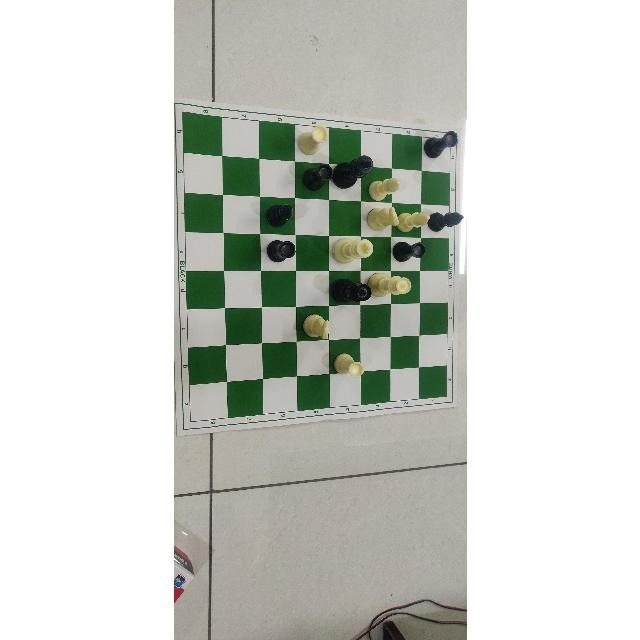black-bishop: (428, 207, 464, 232), (266, 197, 291, 228)
black-king: (335, 151, 373, 194)
black-queen: (330, 274, 369, 308)
black-rook: (262, 233, 296, 267), (299, 161, 333, 192), (423, 128, 454, 162), (392, 240, 423, 263)
white-bishop: (364, 173, 399, 201), (390, 208, 430, 232)
white-king: (329, 230, 372, 264)
white-knight: (362, 202, 401, 234), (301, 312, 330, 344)
white-queen: (367, 273, 410, 305)
white-rook: (296, 124, 326, 156), (331, 354, 365, 377)
